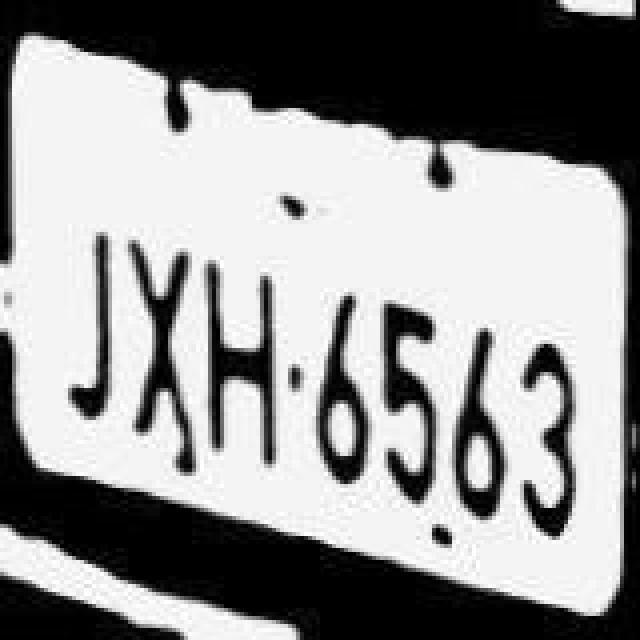3: (514, 294, 590, 554)
5: (382, 252, 450, 512)
6: (316, 258, 380, 518), (446, 284, 514, 528)
H: (202, 238, 282, 478)
J: (60, 190, 128, 450)
X: (128, 226, 204, 450)
